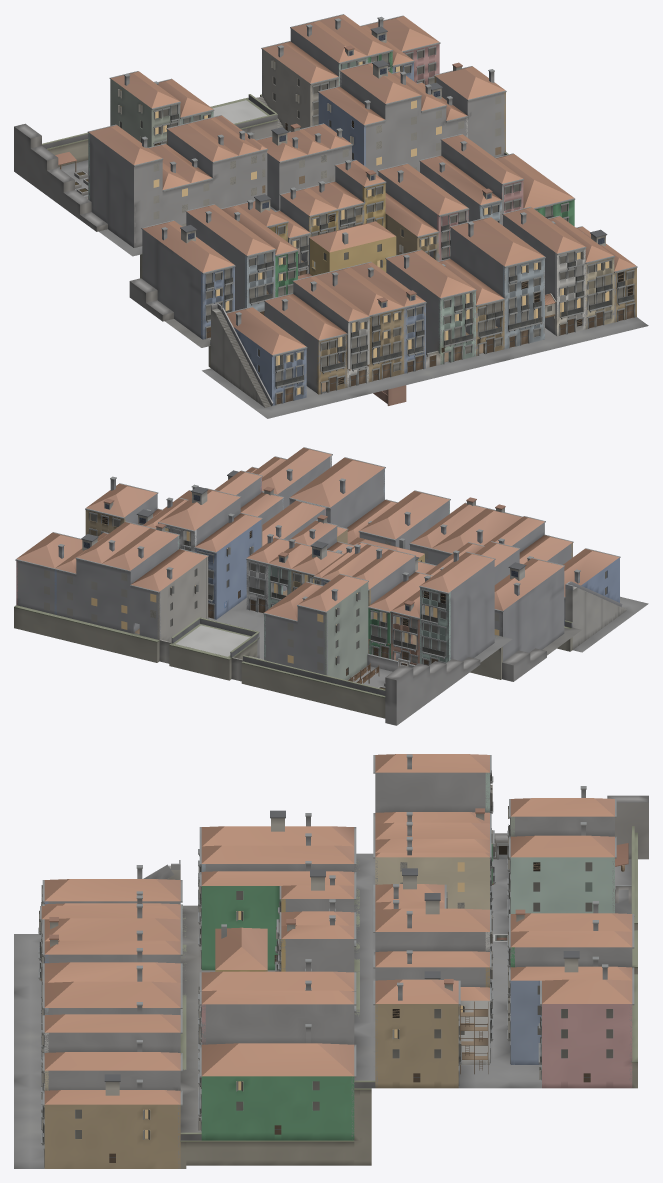
Rendered from stairs_lo.glb.
3 views of the same model, one above another, from view 1: azimuth 30°, elevation 25°; view 2: azimuth 150°, elevation 25°; view 3: azimuth 270°, elevation 25° (orthographic). The views are drawn at different scales.
Parts seen in each view (by area): view 1: stairs_1_9, stairs_2_1, stairs_sw_1, stairs_1_7, ground_stairs_1, stairs_1_10, stairs_se_2, stairs_2_2, stairs_ne_1, stairs_1_2, stairs_1_1, stairs_1_4 (+44 smaller); view 2: stairs_sw_1, stairs_nw_1, stairs_2_1, stairs_ne_1, stairs_se_1, stairs_ne_2, stairs_1_9, stairs_retaining_9, stairs_retaining_7, stairs_mn_east_1, stairs_1_7, stairs_se_2 (+40 smaller); view 3: stairs_2_8, stairs_1_12, stairs_mn_east_1, ground_stairs_3, stairs_ms_east_1, stairs_nw_2, stairs_2_7, stairs_sw_1, stairs_2_3, ground_stairs_1, stairs_se_2, stairs_1_10 (+31 smaller).
Boxes of the visible parts, x1,y1,x2,y2 form: stairs_1_9: (450,216,545,348); stairs_2_1: (141,220,235,339); stairs_sw_1: (87,124,163,247); stairs_1_7: (385,249,476,364); ground_stairs_1: (202,317,648,418); stairs_1_10: (502,206,586,336); stairs_se_2: (339,60,421,171); stairs_2_2: (185,204,276,315); stairs_ne_1: (261,41,339,131); stairs_1_2: (264,293,347,394); stairs_1_1: (226,306,307,405); stairs_1_4: (314,267,405,382); stairs_sw_1: (419,550,495,665); stairs_nw_1: (297,573,368,680); stairs_2_1: (494,557,564,661); stairs_ne_1: (130,548,208,641); stairs_se_1: (194,513,262,619); stairs_ne_2: (101,523,179,632); stairs_1_9: (289,457,385,527); stairs_retaining_9: (14,605,159,662); stairs_retaining_7: (241,661,385,718); stairs_mn_east_1: (15,532,82,614); stairs_1_7: (358,490,450,549); stairs_se_2: (158,484,241,551); stairs_2_8: (198,1024,356,1140); stairs_1_12: (41,1074,182,1168); stairs_mn_east_1: (538,964,634,1088); ground_stairs_3: (354,853,631,1088); stairs_ms_east_1: (373,979,461,1088); stairs_nw_2: (507,822,616,917); stairs_2_7: (198,980,356,1078); stairs_sw_1: (373,754,493,813); stairs_2_3: (198,861,356,970); ground_stairs_1: (14,934,44,1168); stairs_se_2: (373,893,493,1008); stairs_1_10: (41,1002,182,1112).
Size of the model in its own units: 80.69 by 37.34 by 91.4.
